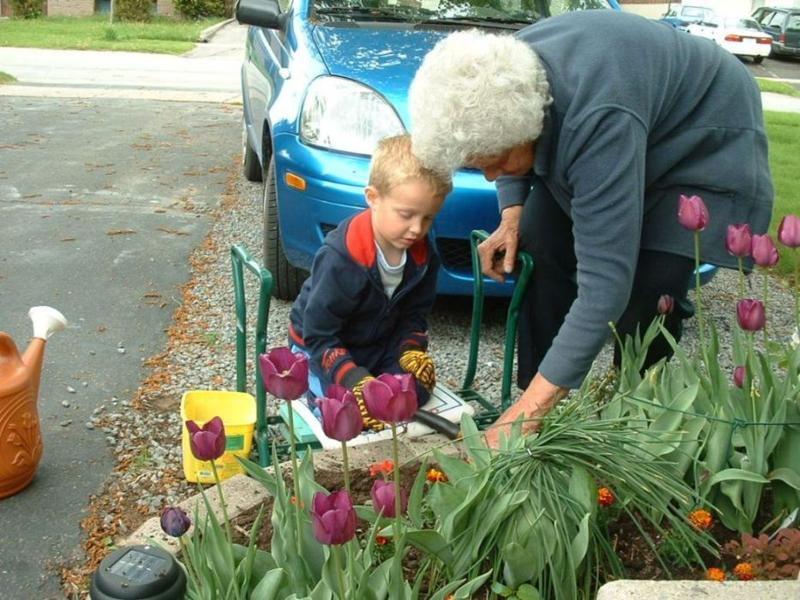person: (412, 10, 779, 461)
